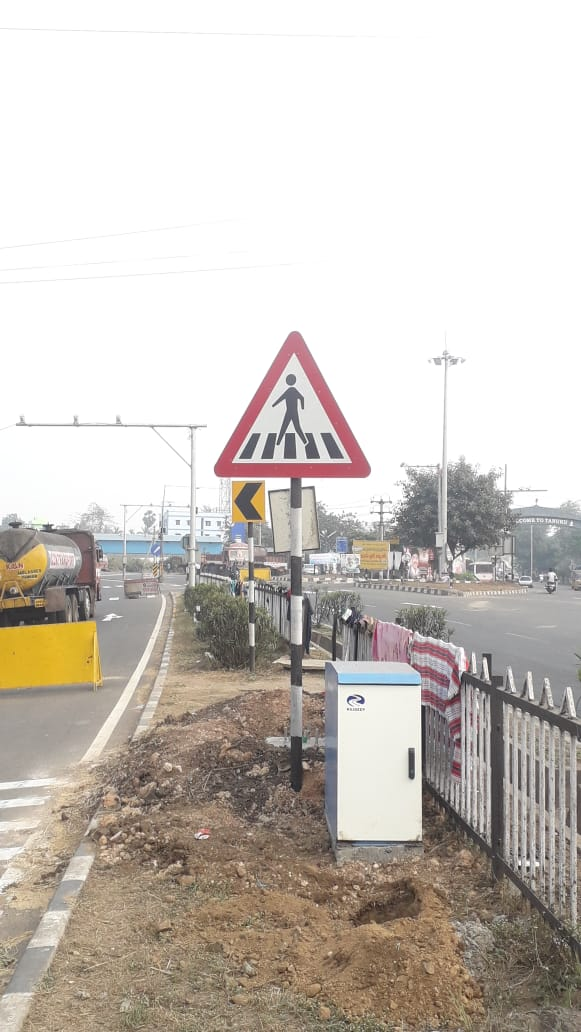pedestrian crossing: (216, 315, 380, 519)
